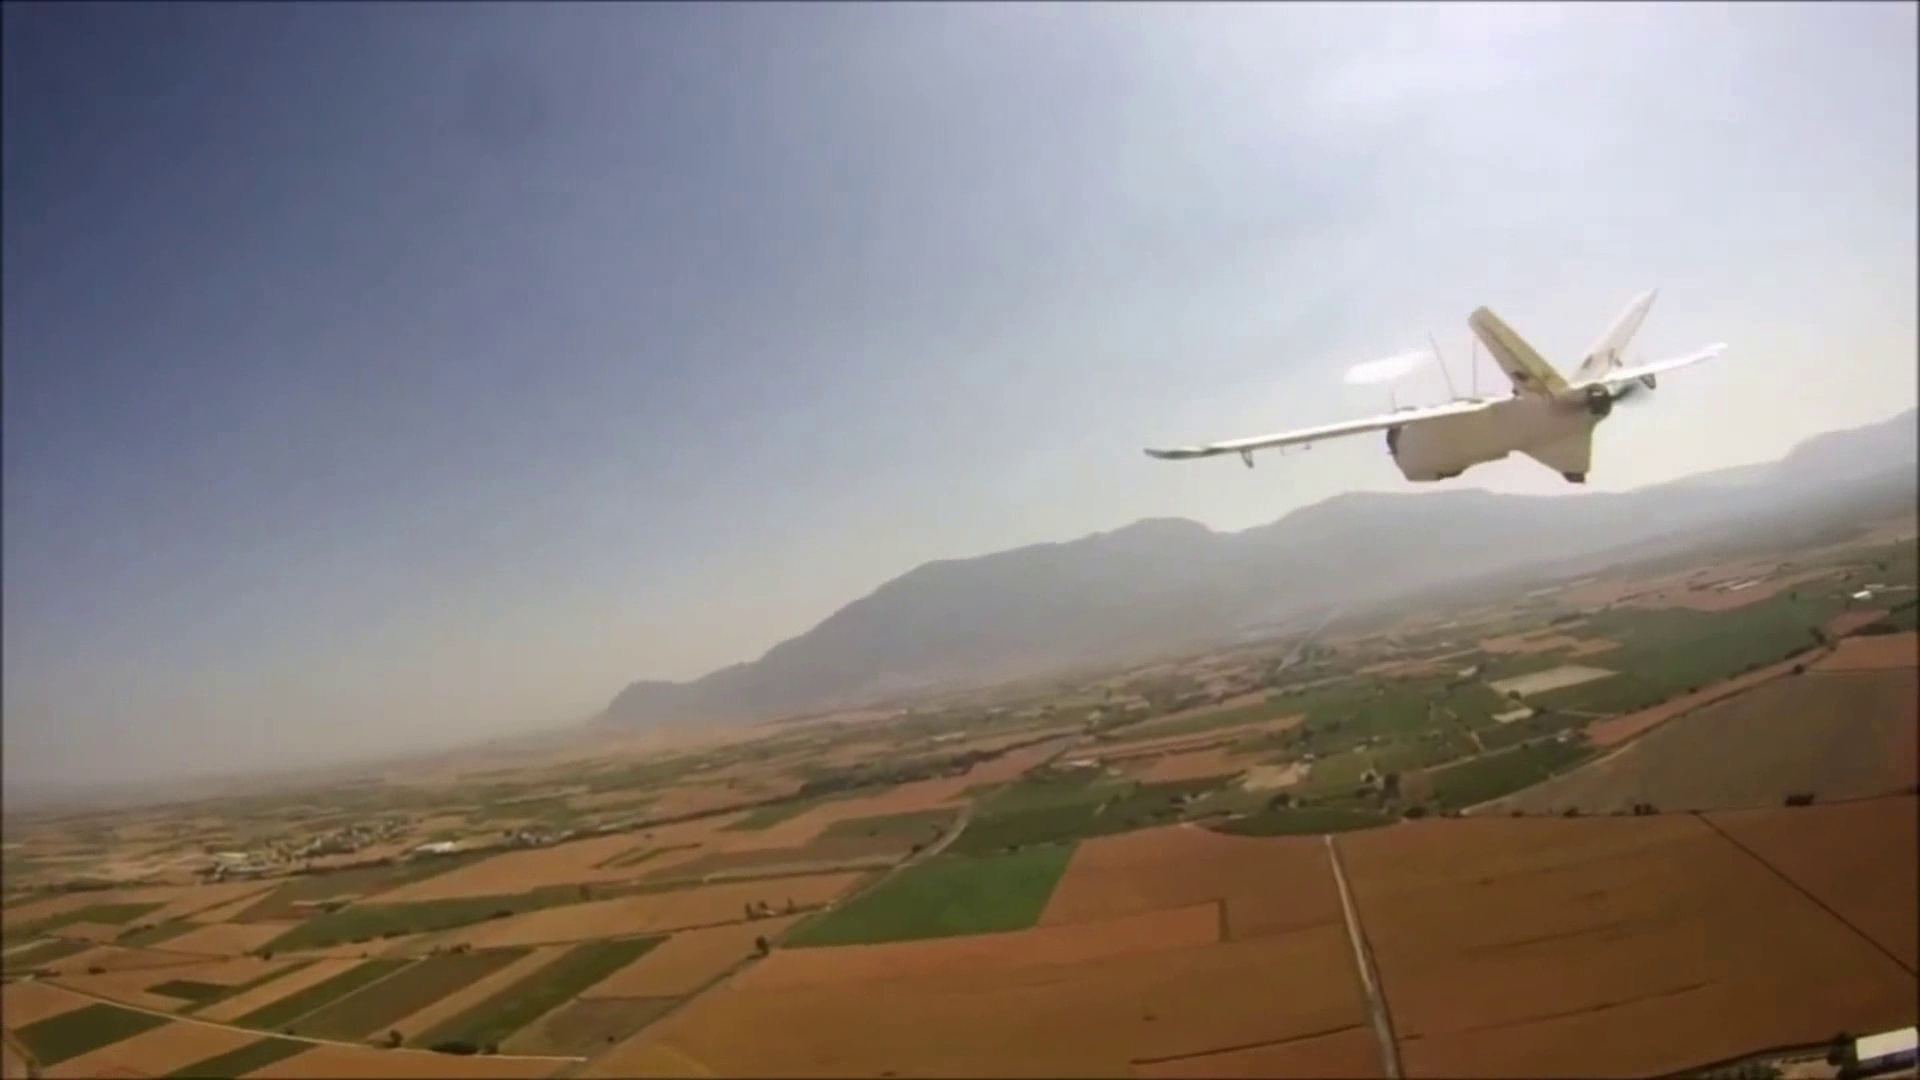airplane: (1145, 289, 1729, 493)
